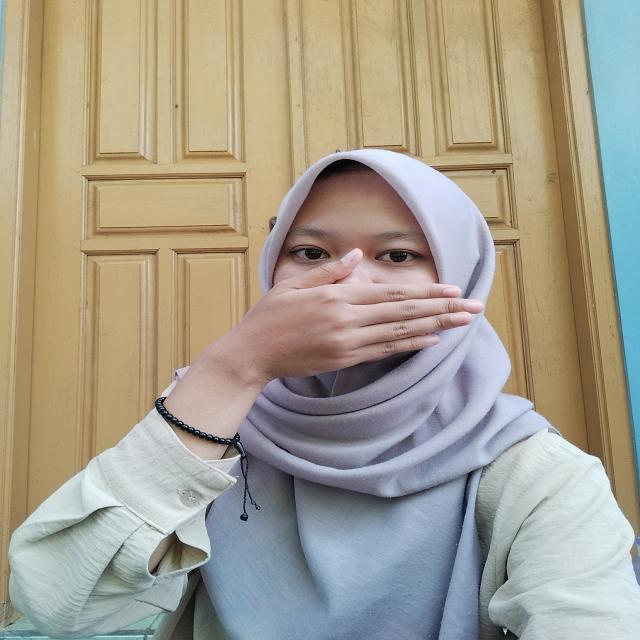buruk: (177, 250, 487, 372)
